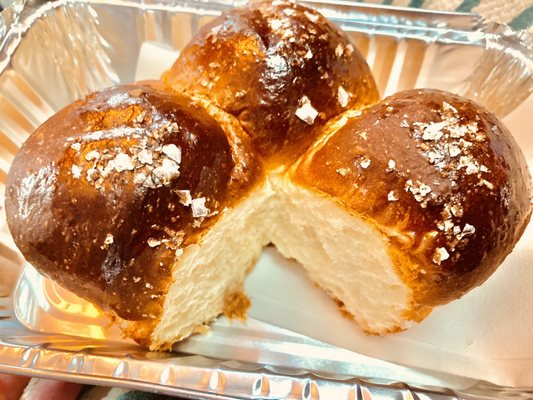salad: (4, 81, 268, 349)
